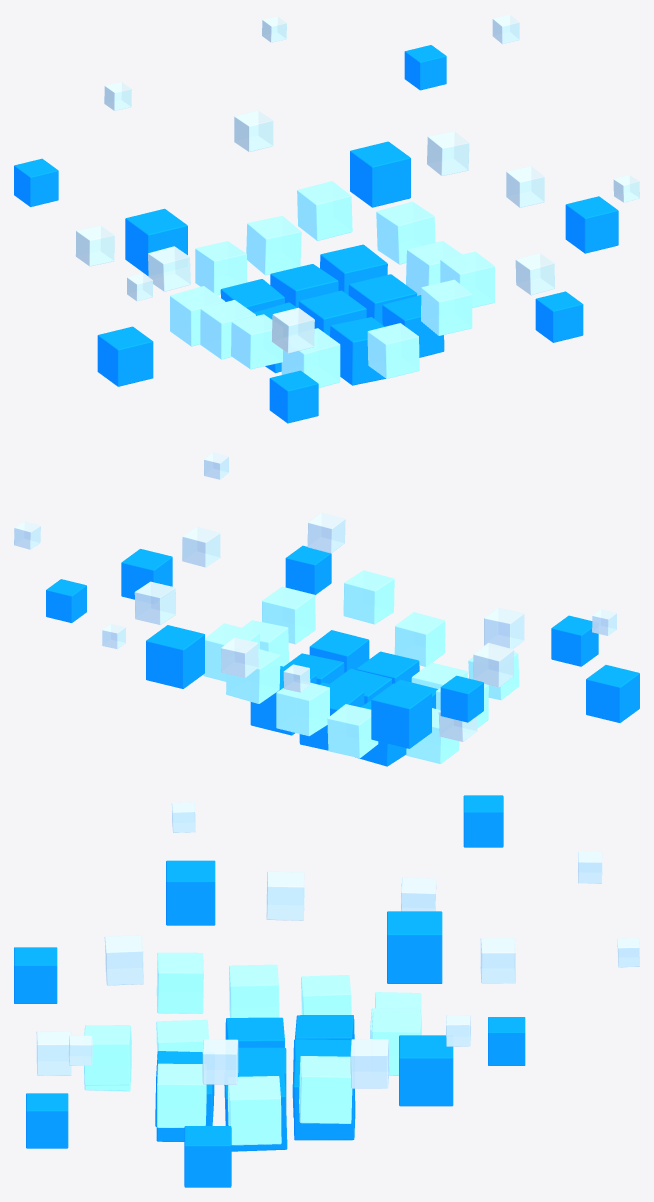
Rendered from cubos.glb.
The picture shows the model from 3 angles, top to bottom: view 1: azimuth 30°, elevation 25°; view 2: azimuth 150°, elevation 25°; view 3: azimuth 270°, elevation 25°; orthographic projection. The views are drawn at different scales.
Parts seen in each view (by area): view 1: Cube_M_39, Cube_E_32, Cube_M_13, Cube_M_12, Cube_M_10, Cube_M_38, Cube_E_33, Cube_M_19, Cube_M_18, Cube_C_06, Cube_M_14, Cube_E_36 (+26 smaller); view 2: Cube_M_38, Cube_M_39, Cube_E_32, Cube_M_12, Cube_M_19, Cube_M_11, Cube_M_18, Cube_M_14, Cube_E_36, Cube_E_37, Cube_E_33, Cube_M_13 (+26 smaller); view 3: Cube_M_38, Cube_M_39, Cube_M_09, Cube_M_10, Cube_E_32, Cube_M_11, Cube_E_33, Cube_M_17, Cube_M_15, Cube_M_19, Cube_E_36, Cube_E_37 (+26 smaller).
Boxes of the visible parts, left/top/right/bottom form: Cube_M_39: left=350, top=141, right=410, bottom=207; Cube_E_32: left=97, top=326, right=153, bottom=386; Cube_M_13: left=297, top=181, right=352, bottom=240; Cube_M_12: left=246, top=216, right=301, bottom=275; Cube_M_10: left=376, top=201, right=435, bottom=264; Cube_M_38: left=125, top=208, right=187, bottom=276; Cube_E_33: left=565, top=196, right=618, bottom=253; Cube_M_19: left=421, top=279, right=472, bottom=335; Cube_M_18: left=367, top=323, right=419, bottom=378; Cube_C_06: left=330, top=317, right=385, bottom=385; Cube_M_14: left=195, top=241, right=246, bottom=295; Cube_E_36: left=269, top=370, right=318, bottom=423; Cube_M_38: left=371, top=683, right=431, bottom=748; Cube_M_39: left=146, top=625, right=204, bottom=688; Cube_E_32: left=586, top=665, right=639, bottom=722; Cube_M_12: left=276, top=682, right=329, bottom=736; Cube_M_19: left=343, top=570, right=394, bottom=624; Cube_M_11: left=262, top=586, right=315, bottom=644; Cube_M_18: left=394, top=612, right=445, bottom=666; Cube_M_14: left=327, top=704, right=378, bottom=758; Cube_E_36: left=551, top=615, right=598, bottom=666; Cube_E_37: left=285, top=545, right=331, bottom=594; Cube_E_33: left=121, top=549, right=172, bottom=599; Cube_M_13: left=226, top=649, right=280, bottom=703; Cube_M_38: left=387, top=911, right=442, bottom=983; Cube_M_39: left=399, top=1035, right=453, bottom=1106; Cube_M_09: left=228, top=1076, right=281, bottom=1145; Cube_M_10: left=299, top=1056, right=352, bottom=1123; Cube_E_32: left=166, top=860, right=215, bottom=925; Cube_M_11: left=157, top=1063, right=206, bottom=1127; Cube_E_33: left=184, top=1126, right=231, bottom=1187; Cube_M_17: left=156, top=952, right=203, bottom=1013; Cube_M_15: left=229, top=964, right=279, bottom=1017; Cube_M_19: left=84, top=1025, right=131, bottom=1085; Cube_E_36: left=14, top=947, right=57, bottom=1003; Cube_E_37: left=26, top=1093, right=68, bottom=1148.
Bounding box in the file's own units: 12.5 × 4.77 × 10.9.
